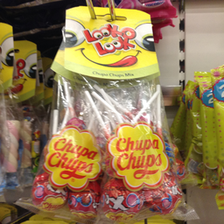candy: (61, 8, 163, 210)
